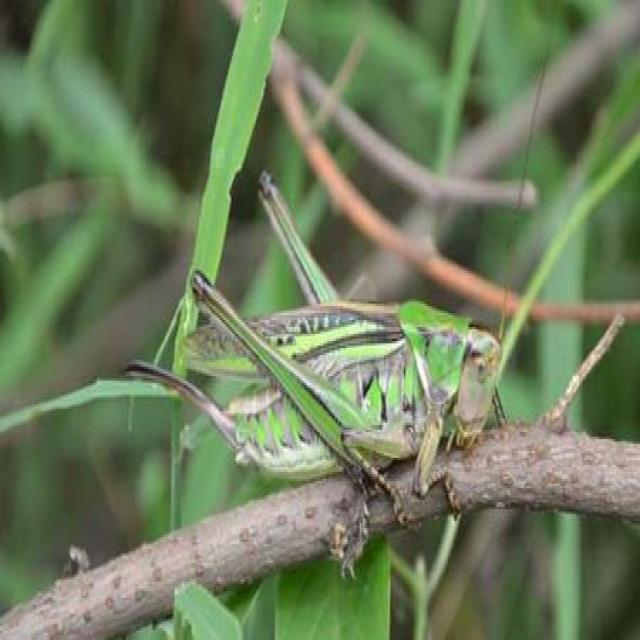ZhaMeng: (129, 161, 547, 538)
